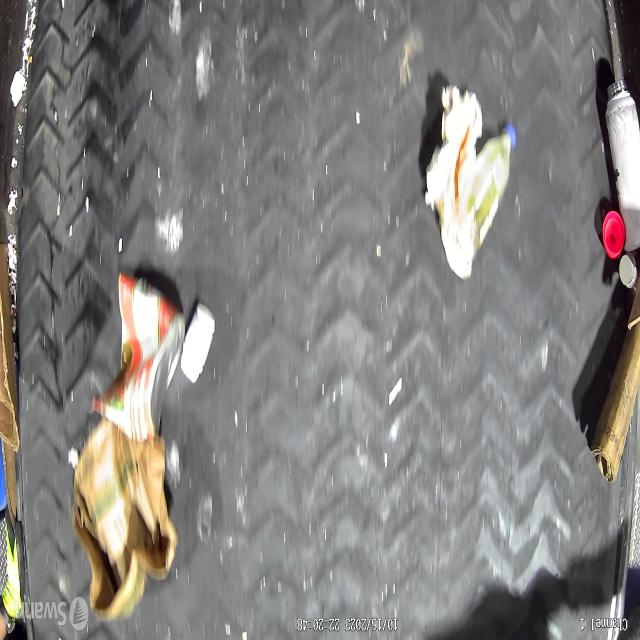can: (92, 274, 184, 443)
